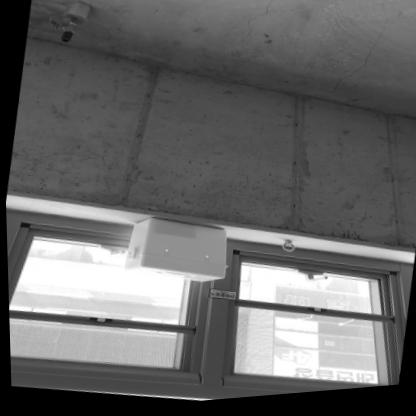DDL: (120, 211, 233, 294)
